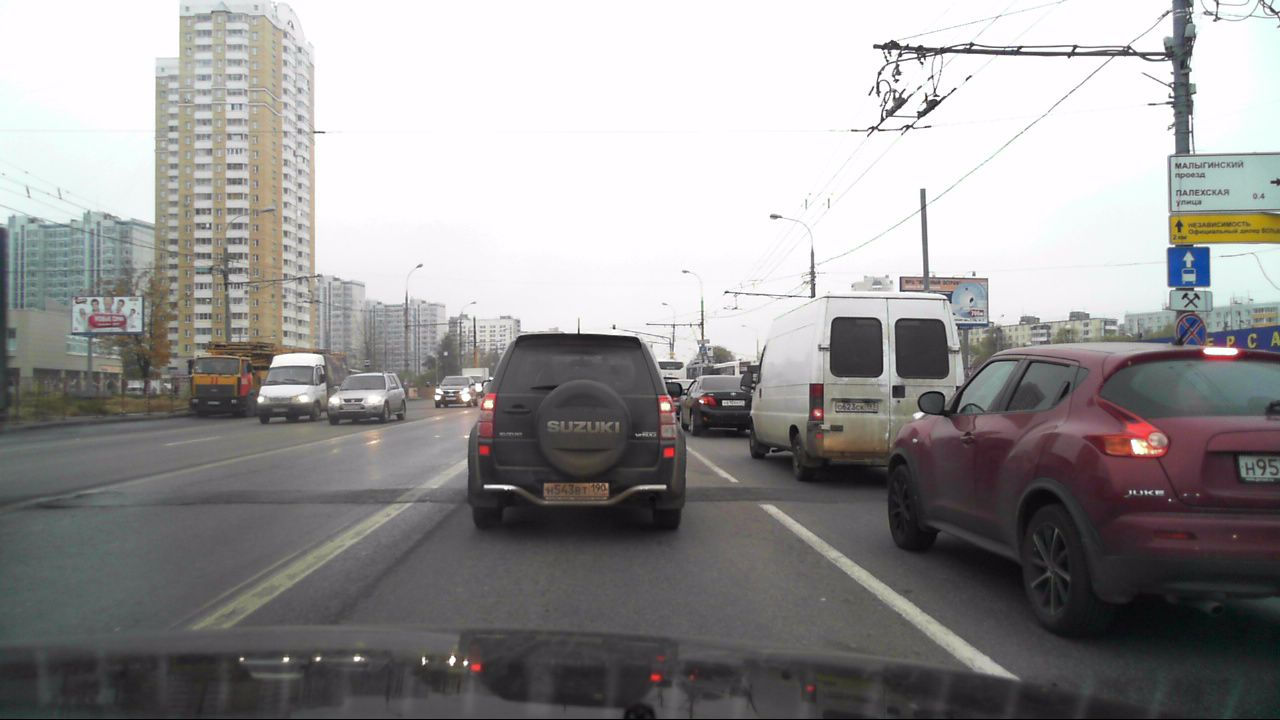No Parking: (1175, 315, 1206, 347)
